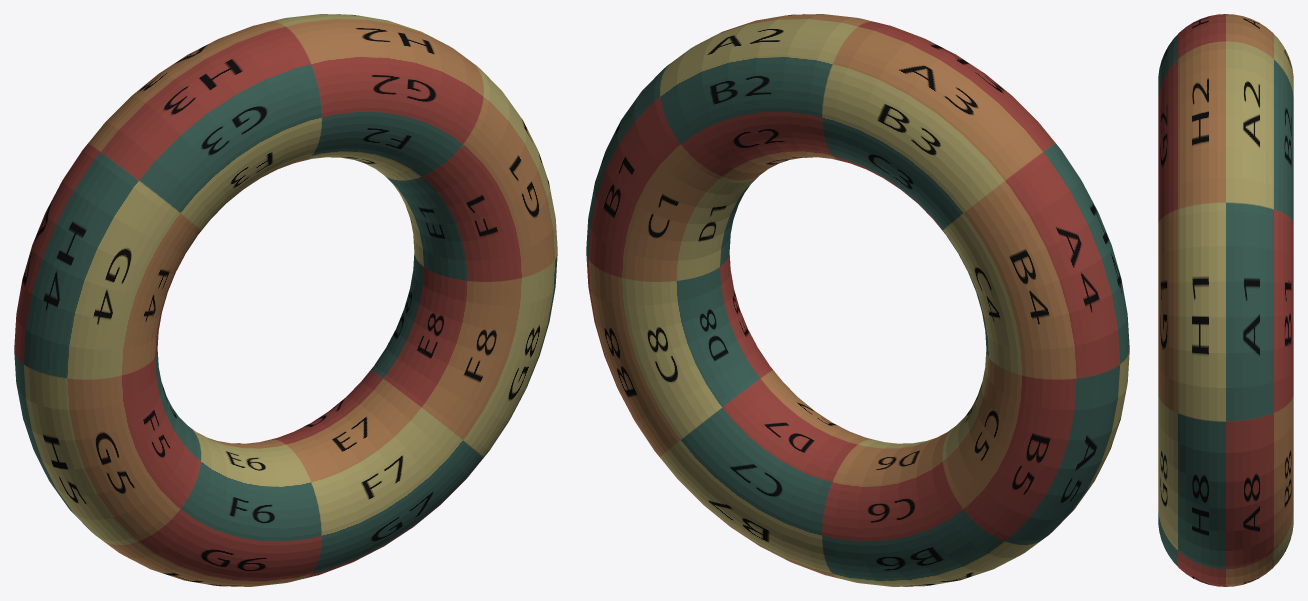
File: texture_torus_R23_r22.glb
3 renders of one model, left to right at view 1: azimuth 30°, elevation 25°; view 2: azimuth 150°, elevation 25°; view 3: azimuth 270°, elevation 25°, orthographic. The views are drawn at different scales.
Visible parts, largest first — view 1: world; view 2: world; view 3: world.
Boxes of the visible parts, x1=… form: world: x1=14, y1=14, x2=557, y2=586; world: x1=586, y1=14, x2=1129, y2=586; world: x1=1158, y1=14, x2=1293, y2=586.
Bounding box in the file's own units: 33.2 × 33.13 × 7.85.
1 material, 1 textured.
